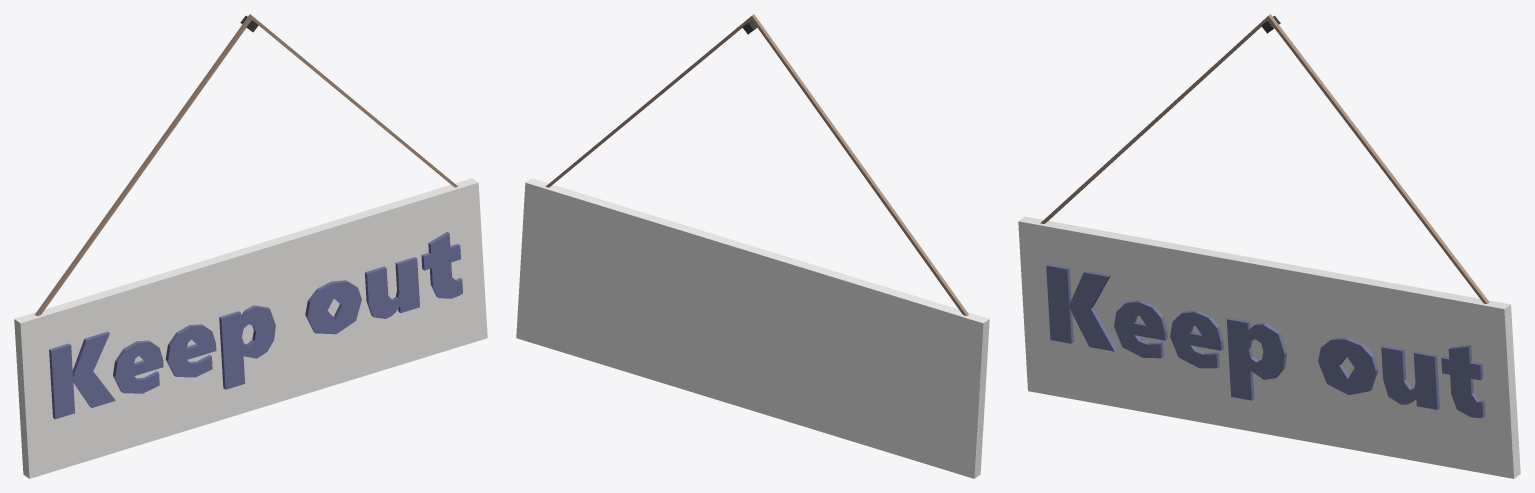
The model's file is Sign_1.fbx.
The picture shows the model from 3 angles, left to right: view 1: azimuth 30°, elevation 25°; view 2: azimuth 150°, elevation 25°; view 3: azimuth 330°, elevation 25°; orthographic projection. The views are drawn at different scales.
Parts seen in each view (by area): view 1: Sign_1; view 2: Sign_1; view 3: Sign_1.
Boxes of the visible parts, bbox=[...] form: Sign_1: bbox=[14, 14, 487, 478]; Sign_1: bbox=[516, 14, 989, 478]; Sign_1: bbox=[1018, 14, 1520, 478].
Size of the model in its own units: 59.39 by 2.29 by 49.44.
